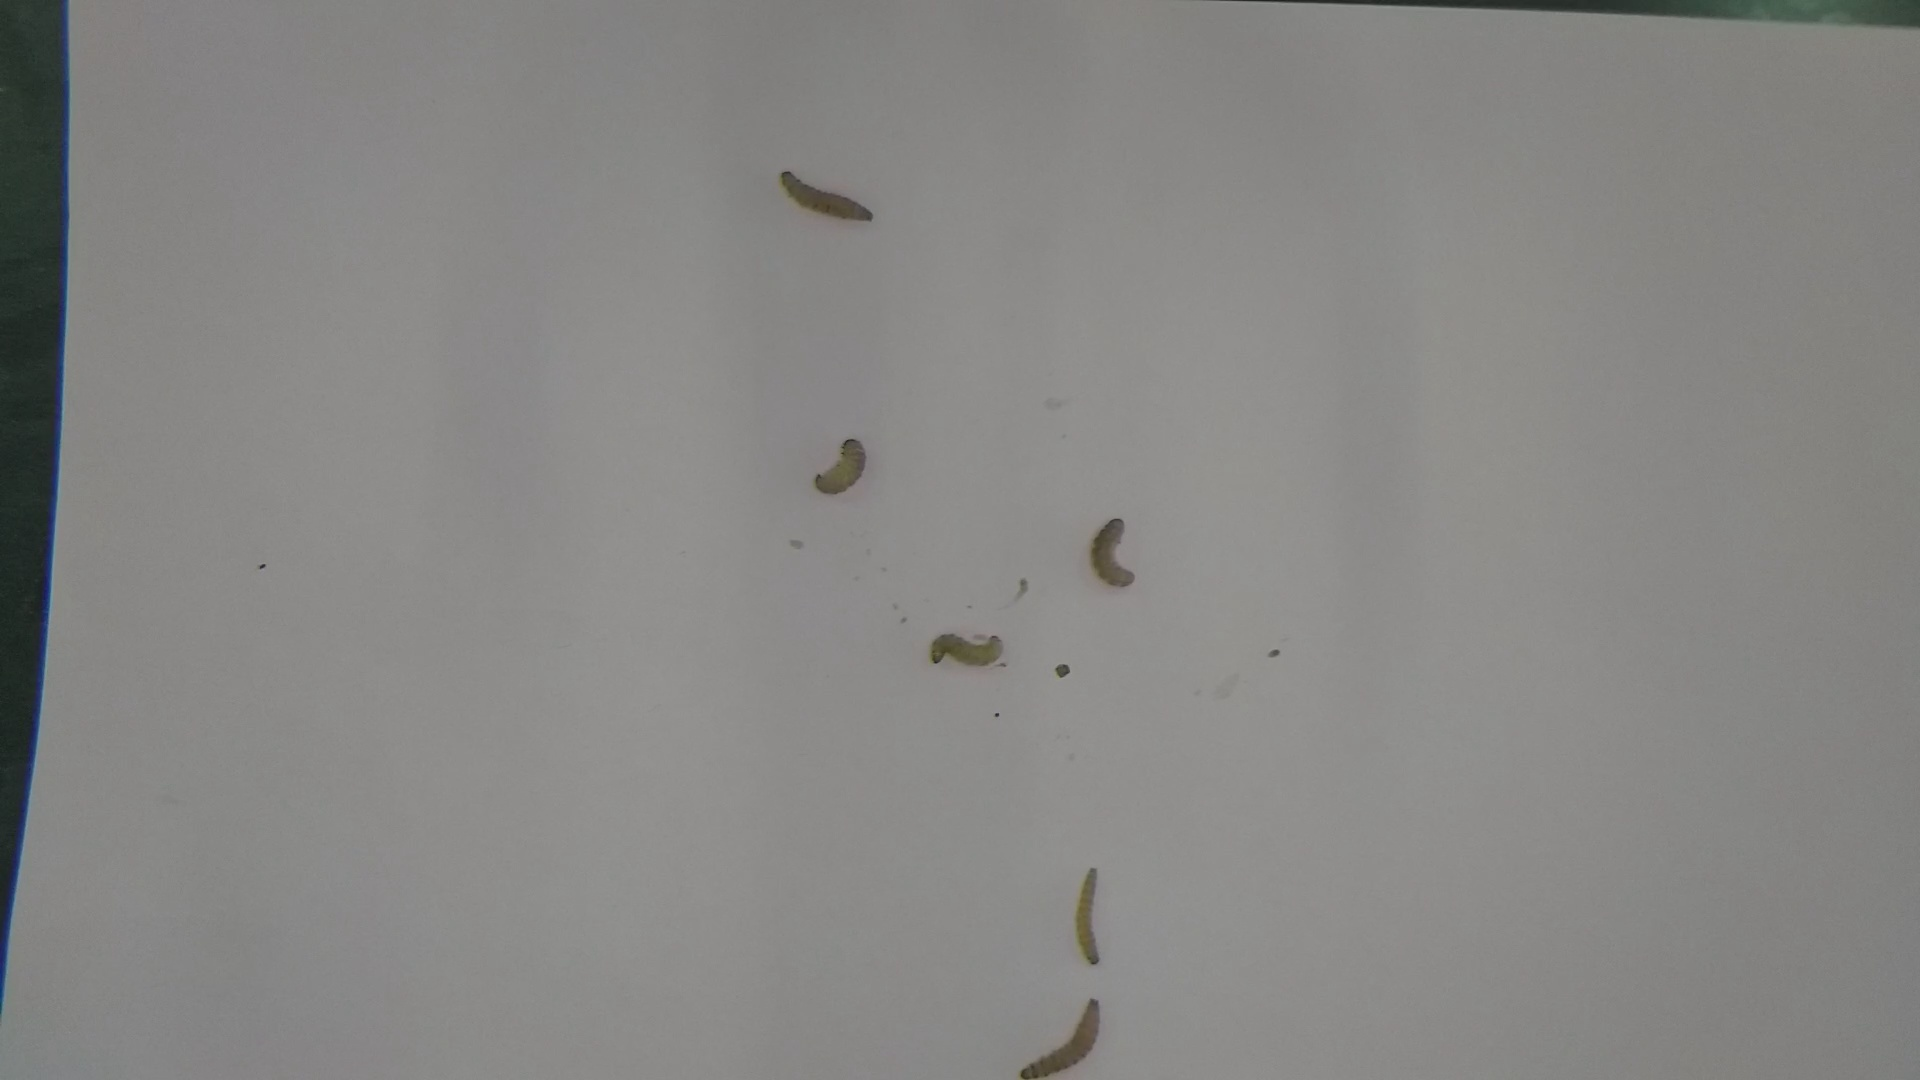efsb: (1010, 996, 1108, 1080), (775, 162, 880, 224), (1077, 510, 1143, 589), (1067, 861, 1112, 975), (808, 433, 876, 496), (928, 630, 1011, 676)
